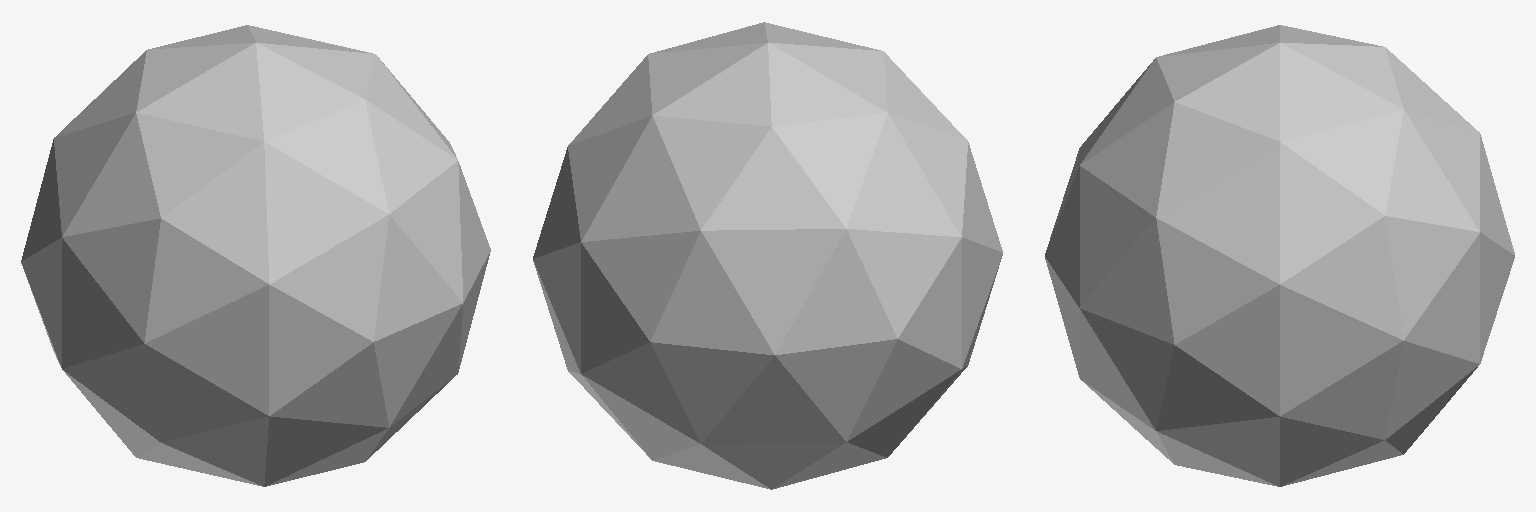
The model's file is small_sphere.obj.
The picture shows the model from 3 angles: view 1: azimuth 30°, elevation 25°; view 2: azimuth 150°, elevation 25°; view 3: azimuth 270°, elevation 25°; orthographic projection.
Parts seen in each view (by area): view 1: Icosphere; view 2: Icosphere; view 3: Icosphere.
Part boxes in pixels (x1,y1,x2,y2): Icosphere: (21, 25, 490, 486); Icosphere: (533, 22, 1002, 489); Icosphere: (1045, 25, 1514, 486).
Bounding box in the file's own units: 0.019 × 0.02 × 0.02.